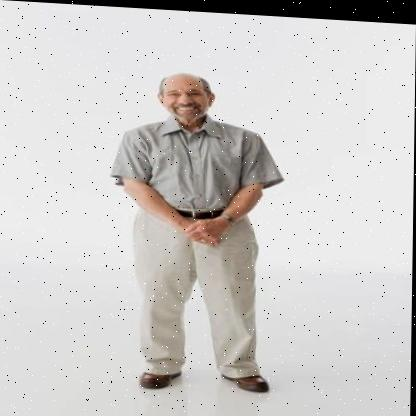person: (99, 56, 302, 406)
